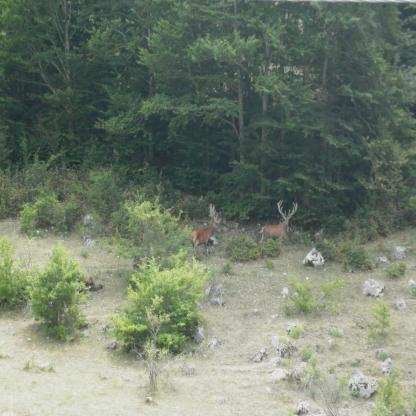Deer: (258, 199, 297, 246), (188, 204, 221, 251)
